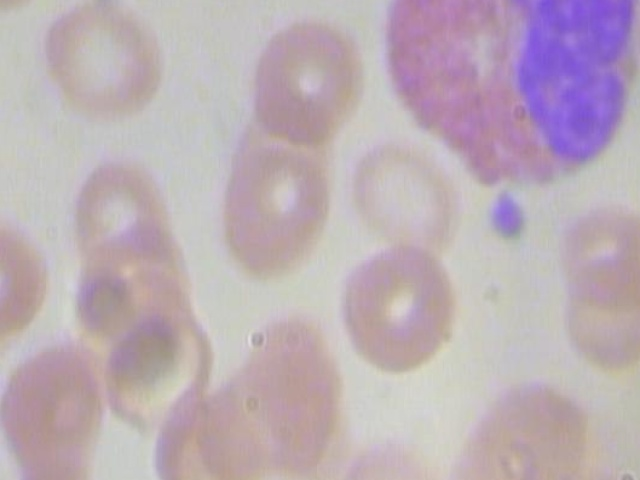Platelets: (482, 184, 540, 242)
RBC: (208, 106, 342, 285), (328, 234, 460, 381), (41, 0, 169, 136), (0, 333, 114, 480), (243, 11, 361, 149), (340, 124, 458, 255), (58, 148, 167, 263), (556, 249, 640, 378)
WBC: (359, 0, 640, 195)
